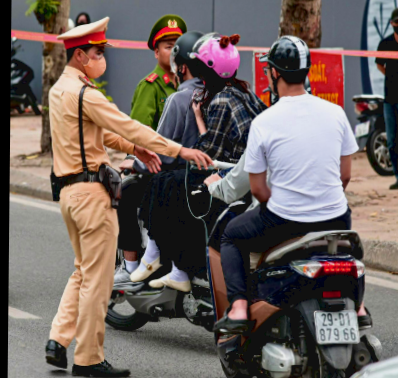Bien-so: (311, 308, 362, 347)
